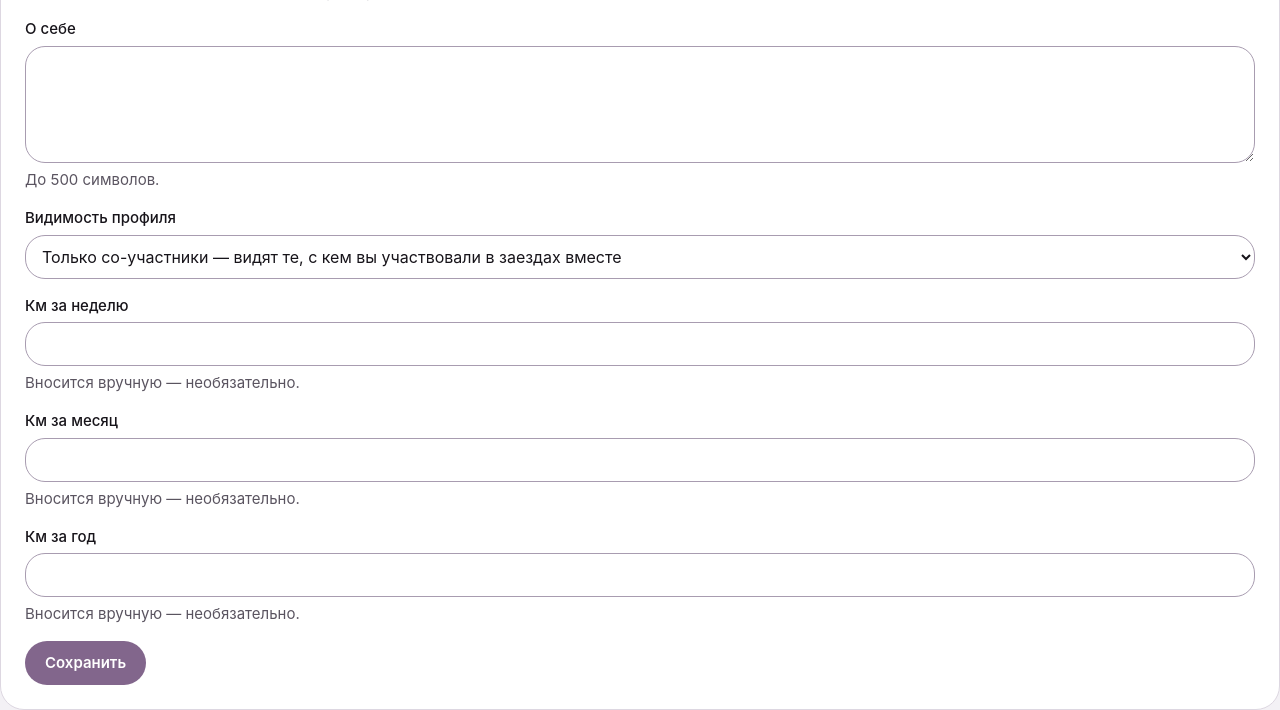
ProfileForm › shows a pending state and disables the submit button while in flight
The image size is (1280, 710).
(page scrolled)
What coordinates should you click on to do the following:
click the button "Сохранить"
I would click on:
 (86, 663)
Its box is [25, 641, 146, 685].
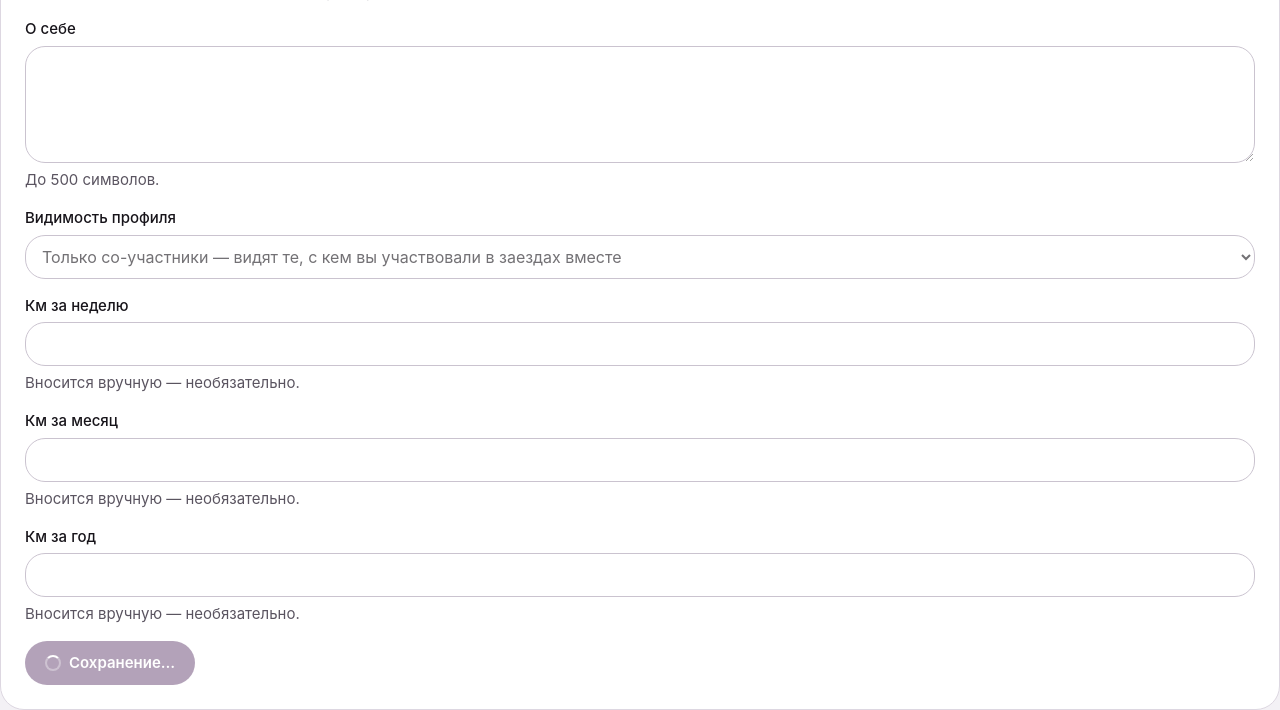
Expected: the button "Сохранение…" is disabled, [25, 641, 195, 685]
